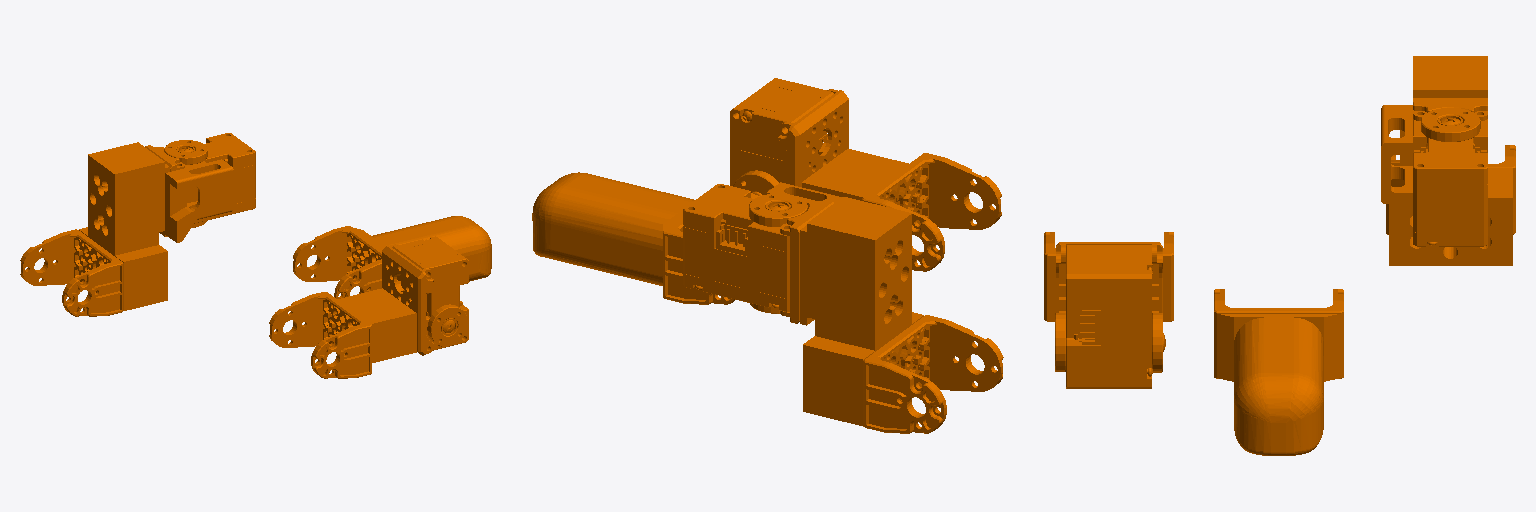
URDF robot description (onshape):
<robot name="onshape">
  <link name="palm_lower">
    <inertial>
      <origin xyz="0.0 0.0 0.0" rpy="0.0 -0.0 0.0"/>
      <mass value="0.237"/>
      <inertia ixx="0.000354094" ixy="-1.193e-06" ixz="-2.445e-06" iyy="0.000260915" iyz="-2.905e-06" izz="0.000529257"/>
    </inertial>
    <visual>
      <geometry>
        <mesh filename="../assets/leap/leap_hand/palm_lower.stl"/>
      </geometry>
      <origin xyz="-0.020095249652862544 0.025757756134899473 -0.034722403578460216" rpy="0.0 -0.0 0.0"/>
      <material name="palm_lower_material">
        <color rgba="0.6039215686274509 0.14901960784313725 0.14901960784313725 1.0"/>
      </material>
    </visual>
    <collision>
      <geometry>
        <mesh filename="../assets/leap/leap_hand/palm_lower.stl"/>
      </geometry>
      <origin xyz="-0.020095249652862544 0.025757756134899473 -0.034722403578460216" rpy="0.0 -0.0 0.0"/>
    </collision>
  </link>
  <link name="mcp_joint_long">
    <inertial>
      <origin xyz="0.0 0.0 0.0" rpy="0.0 -0.0 0.0"/>
      <mass value="0.044"/>
      <inertia ixx="1.1499e-05" ixy="3.049e-06" ixz="1.21e-07" iyy="7.796e-06" iyz="1.12e-07" izz="1.4759e-05"/>
    </inertial>
    <visual>
      <geometry>
        <mesh filename="custom_models/mcp_joint_long.stl"/>
      </geometry>
      <origin xyz="0.008406902261174496 0.0077662438597169954 0.014657354985032912" rpy="1.6375789613221e-15 -1.021047330249102e-30 1.7177968783327987e-31"/>
      <material name="mcp_joint_material">
        <color rgba="0.878 0.467 0.0 1.0"/>
      </material>
    </visual>
    <collision>
      <geometry>
        <mesh filename="custom_models/mcp_joint_long.stl"/>
      </geometry>
      <origin xyz="0.008406902261174496 0.0077662438597169954 0.014657354985032912" rpy="1.6375789613221e-15 -1.021047330249102e-30 1.7177968783327987e-31"/>
    </collision>
  </link>
  <link name="pip">
    <inertial>
      <origin xyz="0.0 0.0 0.0" rpy="0.0 -0.0 0.0"/>
      <mass value="0.032"/>
      <inertia ixx="4.798e-06" ixy="1.2e-08" ixz="4e-09" iyy="2.862e-06" iyz="1.1e-08" izz="4.234e-06"/>
    </inertial>
    <visual>
      <geometry>
        <mesh filename="../assets/leap/leap_hand/pip.stl"/>
      </geometry>
      <origin xyz="0.009643363092271328 0.0002999999999999895 0.0007840340104173765" rpy="-1.5707963267948966 -1.5707963267948963 0.0"/>
      <material name="pip_material">
        <color rgba="0.7490196078431373 0.7490196078431373 0.7490196078431373 1.0"/>
      </material>
    </visual>
    <collision>
      <geometry>
        <mesh filename="../assets/leap/leap_hand/pip.stl"/>
      </geometry>
      <origin xyz="0.009643363092271328 0.0002999999999999895 0.0007840340104173765" rpy="-1.5707963267948966 -1.5707963267948963 0.0"/>
    </collision>
  </link>
  <link name="dip">
    <inertial>
      <origin xyz="0.0 0.0 0.0" rpy="0.0 -0.0 0.0"/>
      <mass value="0.037"/>
      <inertia ixx="5.542e-06" ixy="-6.07e-07" ixz="-1.7e-08" iyy="5.727e-06" iyz="-2.3e-08" izz="6.682e-06"/>
    </inertial>
    <visual>
      <geometry>
        <mesh filename="../assets/leap/leap_hand/dip.stl"/>
      </geometry>
      <origin xyz="0.021133352895225003 -0.00843211914670488 0.00978508816209524" rpy="-3.141592653589793 4.507511124216441e-32 4.439548105392361e-32"/>
      <material name="dip_material">
        <color rgba="0.8666666666666667 0.8666666666666667 0.050980392156862744 1.0"/>
      </material>
    </visual>
    <collision>
      <geometry>
        <mesh filename="../assets/leap/leap_hand/dip.stl"/>
      </geometry>
      <origin xyz="0.021133352895225003 -0.00843211914670488 0.00978508816209524" rpy="-3.141592653589793 4.507511124216441e-32 4.439548105392361e-32"/>
    </collision>
  </link>
  <link name="fingertip">
    <inertial>
      <origin xyz="0.0 0.0 0.0" rpy="0.0 -0.0 0.0"/>
      <mass value="0.016"/>
      <inertia ixx="3.368e-06" ixy="1.15e-07" ixz="0.0" iyy="1.556e-06" iyz="0.0" izz="2.863e-06"/>
    </inertial>
    <visual>
      <geometry>
        <mesh filename="../assets/leap/leap_hand/fingertip.stl"/>
      </geometry>
      <origin xyz="0.013286424108533503 -0.006114238386541987 0.014499999999999498" rpy="3.141592653589793 1.1993117970061735e-33 4.439548105392361e-32"/>
      <material name="fingertip_material">
        <color rgba="0.8666666666666667 0.8666666666666667 0.050980392156862744 1.0"/>
      </material>
    </visual>
    <collision>
      <geometry>
        <mesh filename="../assets/leap/leap_hand/fingertip.stl"/>
      </geometry>
      <origin xyz="0.013286424108533503 -0.006114238386541987 0.014499999999999498" rpy="3.141592653589793 1.1993117970061735e-33 4.439548105392361e-32"/>
    </collision>
  </link>
  <link name="pip_4">
    <inertial>
      <origin xyz="0.0 0.0 0.0" rpy="0.0 -0.0 0.0"/>
      <mass value="0.032"/>
      <inertia ixx="4.798e-06" ixy="1.2e-08" ixz="4e-09" iyy="2.862e-06" iyz="1.1e-08" izz="4.234e-06"/>
    </inertial>
    <visual>
      <geometry>
        <mesh filename="../assets/leap/leap_hand/pip.stl"/>
      </geometry>
      <origin xyz="-0.005356636907728671 0.0002999999999999999 0.0007840340104173782" rpy="-1.5707963267948966 -1.5707963267948963 0.0"/>
      <material name="pip_material">
        <color rgba="0.7490196078431373 0.7490196078431373 0.7490196078431373 1.0"/>
      </material>
    </visual>
    <collision>
      <geometry>
        <mesh filename="../assets/leap/leap_hand/pip.stl"/>
      </geometry>
      <origin xyz="-0.005356636907728671 0.0002999999999999999 0.0007840340104173782" rpy="-1.5707963267948966 -1.5707963267948963 0.0"/>
    </collision>
  </link>
  <link name="thumb_pip">
    <inertial>
      <origin xyz="0.0 0.0 0.0" rpy="0.0 -0.0 0.0"/>
      <mass value="0.003"/>
      <inertia ixx="5.93e-07" ixy="0.0" ixz="0.0" iyy="5.49e-07" iyz="0.0" izz="2.24e-07"/>
    </inertial>
    <visual>
      <geometry>
        <mesh filename="../assets/leap/leap_hand/thumb_pip.stl"/>
      </geometry>
      <origin xyz="0.011961920770611187 -5.30825383648903e-16 -0.0158526489566642" rpy="1.5707963267948966 1.6050198443300153e-46 -3.9204996250525193e-59"/>
      <material name="thumb_pip_material">
        <color rgba="0.8666666666666667 0.8666666666666667 0.050980392156862744 1.0"/>
      </material>
    </visual>
    <collision>
      <geometry>
        <mesh filename="../assets/leap/leap_hand/thumb_pip.stl"/>
      </geometry>
      <origin xyz="0.011961920770611187 -5.30825383648903e-16 -0.0158526489566642" rpy="1.5707963267948966 1.6050198443300153e-46 -3.9204996250525193e-59"/>
    </collision>
  </link>
  <link name="thumb_dip">
    <inertial>
      <origin xyz="0.0 0.0 0.0" rpy="0.0 -0.0 0.0"/>
      <mass value="0.038"/>
      <inertia ixx="8.474e-06" ixy="2.41e-07" ixz="2.6e-08" iyy="3.841e-06" iyz="2.5e-08" izz="7.679e-06"/>
    </inertial>
    <visual>
      <geometry>
        <mesh filename="../assets/leap/leap_hand/thumb_dip.stl"/>
      </geometry>
      <origin xyz="0.043968715707239175 0.0579529529737092 -0.008628676449369476" rpy="1.94289029309401e-16 3.27515792264422e-15 1.112375852965736e-46"/>
      <material name="thumb_dip_material">
        <color rgba="0.8666666666666667 0.8666666666666667 0.050980392156862744 1.0"/>
      </material>
    </visual>
    <collision>
      <geometry>
        <mesh filename="../assets/leap/leap_hand/thumb_dip.stl"/>
      </geometry>
      <origin xyz="0.043968715707239175 0.0579529529737092 -0.008628676449369476" rpy="1.94289029309401e-16 3.27515792264422e-15 1.112375852965736e-46"/>
    </collision>
  </link>
  <link name="thumb_fingertip">
    <inertial>
      <origin xyz="0.0 0.0 0.0" rpy="0.0 -0.0 0.0"/>
      <mass value="0.049"/>
      <inertia ixx="2.0372e-05" ixy="-4.89e-07" ixz="-3e-08" iyy="4.336e-06" iyz="-9.7e-08" izz="1.9845e-05"/>
    </inertial>
    <visual>
      <geometry>
        <mesh filename="../assets/leap/leap_hand/thumb_fingertip.stl"/>
      </geometry>
      <origin xyz="0.06255953846266739 0.07845968291139699 0.048992911807332215" rpy="4.379057701015637e-47 -3.33066907387547e-16 1.2042408677791935e-46"/>
      <material name="thumb_fingertip_material">
        <color rgba="0.6039215686274509 0.14901960784313725 0.14901960784313725 1.0"/>
      </material>
    </visual>
    <collision>
      <geometry>
        <mesh filename="../assets/leap/leap_hand/thumb_fingertip.stl"/>
      </geometry>
      <origin xyz="0.06255953846266739 0.07845968291139699 0.048992911807332215" rpy="4.379057701015637e-47 -3.33066907387547e-16 1.2042408677791935e-46"/>
    </collision>
  </link>
  <link name="mcp_joint_2">
    <inertial>
      <origin xyz="0.0 0.0 0.0" rpy="0.0 -0.0 0.0"/>
      <mass value="0.044"/>
      <inertia ixx="1.1499e-05" ixy="3.049e-06" ixz="1.21e-07" iyy="7.796e-06" iyz="1.12e-07" izz="1.4759e-05"/>
    </inertial>
    <visual>
      <geometry>
        <mesh filename="../assets/leap/leap_hand/mcp_joint.stl"/>
      </geometry>
      <origin xyz="0.008406902261174496 0.0077662438597169954 0.014657354985032914" rpy="1.6375789613221e-15 -1.0076465469034e-30 2.1209300131419907e-61"/>
      <material name="mcp_joint_material">
        <color rgba="0.8666666666666667 0.8666666666666667 0.050980392156862744 1.0"/>
      </material>
    </visual>
    <collision>
      <geometry>
        <mesh filename="../assets/leap/leap_hand/mcp_joint.stl"/>
      </geometry>
      <origin xyz="0.008406902261174496 0.0077662438597169954 0.014657354985032914" rpy="1.6375789613221e-15 -1.0076465469034e-30 2.1209300131419907e-61"/>
    </collision>
  </link>
  <link name="pip_2">
    <inertial>
      <origin xyz="0.0 0.0 0.0" rpy="0.0 -0.0 0.0"/>
      <mass value="0.032"/>
      <inertia ixx="4.798e-06" ixy="1.2e-08" ixz="4e-09" iyy="2.862e-06" iyz="1.1e-08" izz="4.234e-06"/>
    </inertial>
    <visual>
      <geometry>
        <mesh filename="../assets/leap/leap_hand/pip.stl"/>
      </geometry>
      <origin xyz="0.009643363092271328 0.0002999999999999947 0.0007840340104173765" rpy="-1.5707963267948966 -1.5707963267948963 0.0"/>
      <material name="pip_material">
        <color rgba="0.7490196078431373 0.7490196078431373 0.7490196078431373 1.0"/>
      </material>
    </visual>
    <collision>
      <geometry>
        <mesh filename="../assets/leap/leap_hand/pip.stl"/>
      </geometry>
      <origin xyz="0.009643363092271328 0.0002999999999999947 0.0007840340104173765" rpy="-1.5707963267948966 -1.5707963267948963 0.0"/>
    </collision>
  </link>
  <link name="dip_2">
    <inertial>
      <origin xyz="0.0 0.0 0.0" rpy="0.0 -0.0 0.0"/>
      <mass value="0.037"/>
      <inertia ixx="5.542e-06" ixy="-6.07e-07" ixz="-1.7e-08" iyy="5.727e-06" iyz="-2.3e-08" izz="6.682e-06"/>
    </inertial>
    <visual>
      <geometry>
        <mesh filename="../assets/leap/leap_hand/dip.stl"/>
      </geometry>
      <origin xyz="0.021133352895225003 -0.008432119146704865 0.009785088162095237" rpy="-3.141592653589793 2.1146933785271956e-32 1.4408183216511869e-31"/>
      <material name="dip_material">
        <color rgba="0.8666666666666667 0.8666666666666667 0.050980392156862744 1.0"/>
      </material>
    </visual>
    <collision>
      <geometry>
        <mesh filename="../assets/leap/leap_hand/dip.stl"/>
      </geometry>
      <origin xyz="0.021133352895225003 -0.008432119146704865 0.009785088162095237" rpy="-3.141592653589793 2.1146933785271956e-32 1.4408183216511869e-31"/>
    </collision>
  </link>
  <link name="fingertip_2_long">
    <inertial>
      <origin xyz="0.0 0.0 0.0" rpy="0.0 -0.0 0.0"/>
      <mass value="0.016"/>
      <inertia ixx="3.368e-06" ixy="1.15e-07" ixz="0.0" iyy="1.556e-06" iyz="0.0" izz="2.863e-06"/>
    </inertial>
    <visual>
      <geometry>
        <mesh filename="custom_models/fingertip_long.stl"/>
      </geometry>
      <origin xyz="0.013286424108533496 -0.006114238386542001 0.014499999999999496" rpy="3.141592653589793 -4.317959788283594e-33 1.4408183216511869e-31"/>
      <material name="fingertip_material">
        <color rgba="0.878 0.467 0.0 1.0"/>
      </material>
    </visual>
    <collision>
      <geometry>
        <mesh filename="custom_models/fingertip_long.stl"/>
      </geometry>
      <origin xyz="0.013286424108533496 -0.006114238386542001 0.014499999999999496" rpy="3.141592653589793 -4.317959788283594e-33 1.4408183216511869e-31"/>
    </collision>
  </link>
  <link name="mcp_joint_3">
    <inertial>
      <origin xyz="0.0 0.0 0.0" rpy="0.0 -0.0 0.0"/>
      <mass value="0.044"/>
      <inertia ixx="1.1499e-05" ixy="3.049e-06" ixz="1.21e-07" iyy="7.796e-06" iyz="1.12e-07" izz="1.4759e-05"/>
    </inertial>
    <visual>
      <geometry>
        <mesh filename="../assets/leap/leap_hand/mcp_joint.stl"/>
      </geometry>
      <origin xyz="0.0084069022611745 0.007766243859716996 0.014657354985032914" rpy="1.6375789613221e-15 -1.0059504988632627e-30 5.729641584552035e-32"/>
      <material name="mcp_joint_material">
        <color rgba="0.8666666666666667 0.8666666666666667 0.050980392156862744 1.0"/>
      </material>
    </visual>
    <collision>
      <geometry>
        <mesh filename="../assets/leap/leap_hand/mcp_joint.stl"/>
      </geometry>
      <origin xyz="0.0084069022611745 0.007766243859716996 0.014657354985032914" rpy="1.6375789613221e-15 -1.0059504988632627e-30 5.729641584552035e-32"/>
    </collision>
  </link>
  <link name="pip_3">
    <inertial>
      <origin xyz="0.0 0.0 0.0" rpy="0.0 -0.0 0.0"/>
      <mass value="0.032"/>
      <inertia ixx="4.798e-06" ixy="1.2e-08" ixz="4e-09" iyy="2.862e-06" iyz="1.1e-08" izz="4.234e-06"/>
    </inertial>
    <visual>
      <geometry>
        <mesh filename="../assets/leap/leap_hand/pip.stl"/>
      </geometry>
      <origin xyz="0.009643363092271331 0.00029999999999998084 0.0007840340104173765" rpy="-1.5707963267948966 -1.5707963267948963 0.0"/>
      <material name="pip_material">
        <color rgba="0.7490196078431373 0.7490196078431373 0.7490196078431373 1.0"/>
      </material>
    </visual>
    <collision>
      <geometry>
        <mesh filename="../assets/leap/leap_hand/pip.stl"/>
      </geometry>
      <origin xyz="0.009643363092271331 0.00029999999999998084 0.0007840340104173765" rpy="-1.5707963267948966 -1.5707963267948963 0.0"/>
    </collision>
  </link>
  <link name="dip_3_long">
    <inertial>
      <origin xyz="0.0 0.0 0.0" rpy="0.0 -0.0 0.0"/>
      <mass value="0.037"/>
      <inertia ixx="5.542e-06" ixy="-6.07e-07" ixz="-1.7e-08" iyy="5.727e-06" iyz="-2.3e-08" izz="6.682e-06"/>
    </inertial>
    <visual>
      <geometry>
        <mesh filename="custom_models/dip_long.stl"/>
      </geometry>
      <origin xyz="0.021133352895225006 -0.008432119146704865 0.009785088162095237" rpy="-3.141592653589793 -1.4095651113919093e-33 1.5565411607615035e-32"/>
      <material name="dip_material">
        <color rgba="0.878 0.467 0.0 1.0"/>
      </material>
    </visual>
    <collision>
      <geometry>
        <mesh filename="custom_models/dip_long.stl"/>
      </geometry>
      <origin xyz="0.021133352895225006 -0.008432119146704865 0.009785088162095237" rpy="-3.141592653589793 -1.4095651113919093e-33 1.5565411607615035e-32"/>
    </collision>
  </link>
  <link name="fingertip_3">
    <inertial>
      <origin xyz="0.0 0.0 0.0" rpy="0.0 -0.0 0.0"/>
      <mass value="0.016"/>
      <inertia ixx="3.368e-06" ixy="1.15e-07" ixz="0.0" iyy="1.556e-06" iyz="0.0" izz="2.863e-06"/>
    </inertial>
    <visual>
      <geometry>
        <mesh filename="../assets/leap/leap_hand/fingertip.stl"/>
      </geometry>
      <origin xyz="0.013286424108533501 -0.006114238386541987 0.0144999999999995" rpy="3.141592653589793 8.61707169505754e-33 1.5565411607615035e-32"/>
      <material name="fingertip_material">
        <color rgba="0.8666666666666667 0.8666666666666667 0.050980392156862744 1.0"/>
      </material>
    </visual>
    <collision>
      <geometry>
        <mesh filename="../assets/leap/leap_hand/fingertip.stl"/>
      </geometry>
      <origin xyz="0.013286424108533501 -0.006114238386541987 0.0144999999999995" rpy="3.141592653589793 8.61707169505754e-33 1.5565411607615035e-32"/>
    </collision>
  </link>
  <joint name="1" type="revolute">
    <parent link="palm_lower"/>
    <child link="mcp_joint_long"/>
    <origin xyz="-0.007095249652862546 0.023057756134899472 -0.01872240357846022" rpy="1.570796326794895 1.5707963267948946 0.0"/>
    <axis xyz="0.0 0.0 -1.0"/>
    <limit effort="0.95" velocity="8.48" lower="-0.314" upper="2.23"/>
  </joint>
  <joint name="0" type="revolute">
    <parent link="mcp_joint_long"/>
    <child link="pip"/>
    <origin xyz="-0.012200000000000007713 0.053099999999999994982 0.014500000000000000736" rpy="-1.5707963267948966 -1.0065212660796337e-15 1.5707963267948943"/>
    <axis xyz="0.0 0.0 -1.0"/>
    <limit effort="0.95" velocity="8.48" lower="-1.047" upper="1.047"/>
  </joint>
  <joint name="2" type="revolute">
    <parent link="pip"/>
    <child link="dip"/>
    <origin xyz="0.014999999999999968 0.014299999999999905 -0.012999999999999824" rpy="1.570796326794896 -1.5707963267948963 0.0"/>
    <axis xyz="0.0 0.0 -1.0"/>
    <limit effort="0.95" velocity="8.48" lower="-0.506" upper="1.885"/>
  </joint>
  <joint name="3" type="revolute">
    <parent link="dip"/>
    <child link="fingertip"/>
    <origin xyz="-4.088058249557269e-09 -0.03610000421036737 0.0002000000000000786" rpy="4.5935029425113685e-17 -2.8730071914463795e-16 4.439548105392361e-32"/>
    <axis xyz="0.0 0.0 -1.0"/>
    <limit effort="0.95" velocity="8.48" lower="-0.366" upper="2.042"/>
  </joint>
  <joint name="12" type="revolute">
    <parent link="palm_lower"/>
    <child link="pip_4"/>
    <origin xyz="-0.06939524965286253 -0.0012422438651005258 -0.021622403578460216" rpy="-8.238176646493942e-17 1.5707963267948957 0.0"/>
    <axis xyz="0.0 0.0 -1.0"/>
    <limit effort="0.95" velocity="8.48" lower="-0.349" upper="2.094"/>
  </joint>
  <joint name="13" type="revolute">
    <parent link="pip_4"/>
    <child link="thumb_pip"/>
    <origin xyz="-2.7755575615628914e-17 0.014300000000000005 -0.013000000000000012" rpy="1.570796326794896 -1.5707963267948963 0.0"/>
    <axis xyz="0.0 0.0 -1.0"/>
    <limit effort="0.95" velocity="8.48" lower="-0.47" upper="2.443"/>
  </joint>
  <joint name="14" type="revolute">
    <parent link="thumb_pip"/>
    <child link="thumb_dip"/>
    <origin xyz="0.0 0.014499999999999966 -0.017000000000000053" rpy="-1.5707963267948966 1.6050198443300131e-46 -1.9721522630516625e-31"/>
    <axis xyz="0.0 0.0 -1.0"/>
    <limit effort="0.95" velocity="8.48" lower="-1.2" upper="1.9"/>
  </joint>
  <joint name="15" type="revolute">
    <parent link="thumb_dip"/>
    <child link="thumb_fingertip"/>
    <origin xyz="-1.249000902703301e-16 0.046599999999999864 0.0001999999999999771" rpy="1.506395849149178e-44 5.423418723393526e-31 3.141592653589793"/>
    <axis xyz="0.0 0.0 -1.0"/>
    <limit effort="0.95" velocity="8.48" lower="-1.34" upper="1.88"/>
  </joint>
  <joint name="5" type="revolute">
    <parent link="palm_lower"/>
    <child link="mcp_joint_2"/>
    <origin xyz="-0.007095249652862546 -0.022392243865100525 -0.01872240357846022" rpy="1.570796326794895 1.5707963267948946 0.0"/>
    <axis xyz="0.0 0.0 -1.0"/>
    <limit effort="0.95" velocity="8.48" lower="-0.314" upper="2.23"/>
  </joint>
  <joint name="4" type="revolute">
    <parent link="mcp_joint_2"/>
    <child link="pip_2"/>
    <origin xyz="-0.012200000000000008 0.038099999999999995 0.0145" rpy="-1.5707963267948966 -1.0065212660796337e-15 1.5707963267948943"/>
    <axis xyz="0.0 0.0 -1.0"/>
    <limit effort="0.95" velocity="8.48" lower="-1.047" upper="1.047"/>
  </joint>
  <joint name="6" type="revolute">
    <parent link="pip_2"/>
    <child link="dip_2"/>
    <origin xyz="0.014999999999999968 0.014299999999999905 -0.012999999999999824" rpy="1.570796326794896 -1.5707963267948963 0.0"/>
    <axis xyz="0.0 0.0 -1.0"/>
    <limit effort="0.95" velocity="8.48" lower="-0.506" upper="1.885"/>
  </joint>
  <joint name="7" type="revolute">
    <parent link="dip_2"/>
    <child link="fingertip_2_long"/>
    <origin xyz="-4.088058249557269e-09 -0.03610000421036737 0.0002000000000000786" rpy="4.5935029425113685e-17 -2.8730071914463795e-16 4.439548105392361e-32"/>
    <axis xyz="0.0 0.0 -1.0"/>
    <limit effort="0.95" velocity="8.48" lower="-0.366" upper="2.042"/>
  </joint>
  <joint name="9" type="revolute">
    <parent link="palm_lower"/>
    <child link="mcp_joint_3"/>
    <origin xyz="-0.007095249652862546 -0.06784224386510052 -0.01872240357846022" rpy="1.570796326794895 1.5707963267948946 0.0"/>
    <axis xyz="0.0 0.0 -1.0"/>
    <limit effort="0.95" velocity="8.48" lower="-0.314" upper="2.23"/>
  </joint>
  <joint name="8" type="revolute">
    <parent link="mcp_joint_3"/>
    <child link="pip_3"/>
    <origin xyz="-0.012200000000000008 0.038099999999999995 0.0145" rpy="-1.5707963267948966 -1.0065212660796337e-15 1.5707963267948943"/>
    <axis xyz="0.0 0.0 -1.0"/>
    <limit effort="0.95" velocity="8.48" lower="-1.047" upper="1.047"/>
  </joint>
  <joint name="10" type="revolute">
    <parent link="pip_3"/>
    <child link="dip_3_long"/>
    <origin xyz="0.014999999999999968 0.014299999999999905 -0.012999999999999824" rpy="1.570796326794896 -1.5707963267948963 0.0"/>
    <axis xyz="0.0 0.0 -1.0"/>
    <limit effort="0.95" velocity="8.48" lower="-0.506" upper="1.885"/>
  </joint>
  <joint name="11" type="revolute">
    <parent link="dip_3_long"/>
    <child link="fingertip_3"/>
    <origin xyz="-4.0880582495572692636e-09 -0.051100004210367367397 0.00020000000000007858714" rpy="4.5935029425113685e-17 -2.8730071914463795e-16 4.439548105392361e-32"/>
    <axis xyz="0.0 0.0 -1.0"/>
    <limit effort="0.95" velocity="8.48" lower="-0.366" upper="2.042"/>
  </joint>
</robot>

--- Render facts (derived) ---
Views: 3 orthographic renders of the robot side by side, from view 1: azimuth 30°, elevation 25°; view 2: azimuth 150°, elevation 25°; view 3: azimuth 270°, elevation 25°.
Model onshape with 17 links and 16 joints (16 revolute), rooted at palm_lower, posed all joints at 0.
Visible links, largest first — view 1: mcp_joint_long, dip_3_long, fingertip_2_long; view 2: mcp_joint_long, dip_3_long, fingertip_2_long; view 3: mcp_joint_long, dip_3_long, fingertip_2_long.
Link boxes in pixels (x1,y1,x2,y2): mcp_joint_long: [20, 133, 255, 316]; dip_3_long: [269, 236, 468, 378]; fingertip_2_long: [293, 216, 491, 298]; mcp_joint_long: [683, 182, 1003, 433]; dip_3_long: [730, 78, 1001, 271]; fingertip_2_long: [532, 172, 759, 304]; mcp_joint_long: [1381, 56, 1515, 265]; dip_3_long: [1044, 232, 1173, 388]; fingertip_2_long: [1214, 289, 1343, 455].
Size in the robot's own frame: 0.1616 by 0.1257 by 0.0549 metres.
Meshes: 11 distinct files referenced, 3 mesh visuals loaded (3 binary STL); not drawn: 14 (reference not matched to a file when rendering).